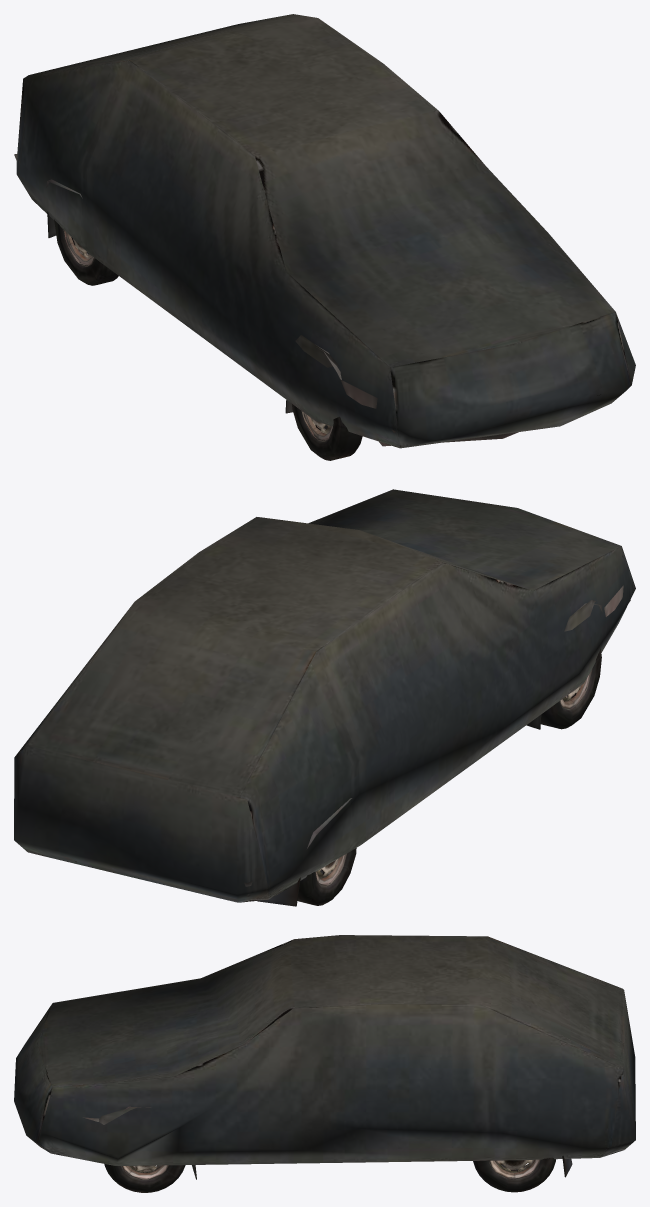
Rendered from covered_car.glb.
3 views of the same model, one above another, from view 1: azimuth 30°, elevation 25°; view 2: azimuth 150°, elevation 25°; view 3: azimuth 270°, elevation 25° (orthographic). The views are drawn at different scales.
Parts seen in each view (by area): view 1: covered_car, covered_car_wheel_02, covered_car_wheel_03; view 2: covered_car, covered_car_wheel_03, covered_car_wheel_02; view 3: covered_car, covered_car_wheel_04, covered_car_wheel_01.
Boxes of the visible parts, x1,y1,x2,y2 form: covered_car: [14, 14, 635, 448]; covered_car_wheel_02: [292, 404, 362, 460]; covered_car_wheel_03: [54, 219, 118, 285]; covered_car: [14, 489, 635, 906]; covered_car_wheel_03: [297, 848, 356, 905]; covered_car_wheel_02: [541, 648, 601, 729]; covered_car: [14, 935, 635, 1179]; covered_car_wheel_04: [473, 1157, 555, 1192]; covered_car_wheel_01: [104, 1164, 185, 1192].
Size of the model in its own units: 1.77 by 1.37 by 4.34.
2 materials, 2 textured.
